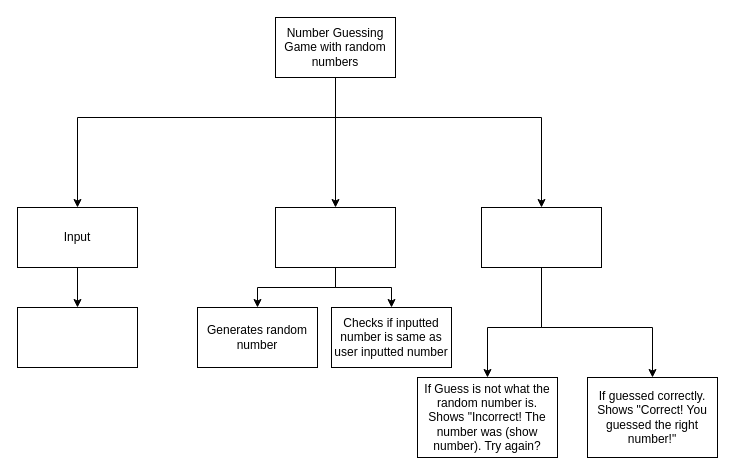
Some shapes in this 735 by 475 pixel diagram are drawn without their labels. Each missing label, with the box of its shape:
Get user inputted guess: (16, 306, 138, 368)
Output: (480, 206, 602, 268)
Process: (274, 206, 396, 268)
